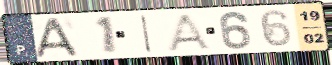1: (94, 15, 119, 56)
6: (218, 9, 253, 50), (259, 9, 294, 49)
A: (34, 16, 81, 59), (164, 12, 214, 51)
I: (139, 13, 154, 54)
